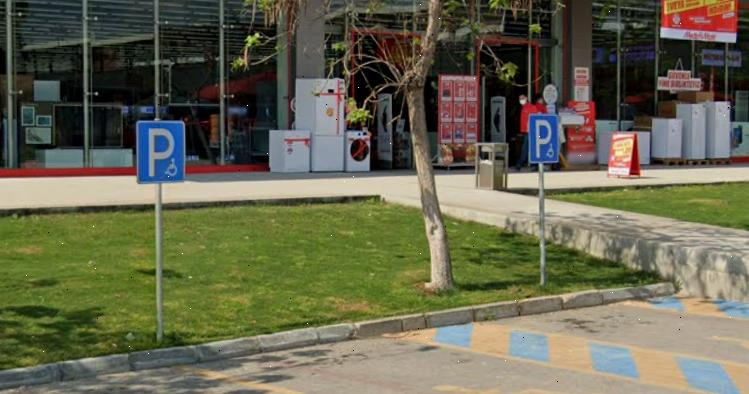disabledpark: (137, 121, 184, 181), (531, 117, 555, 159)
